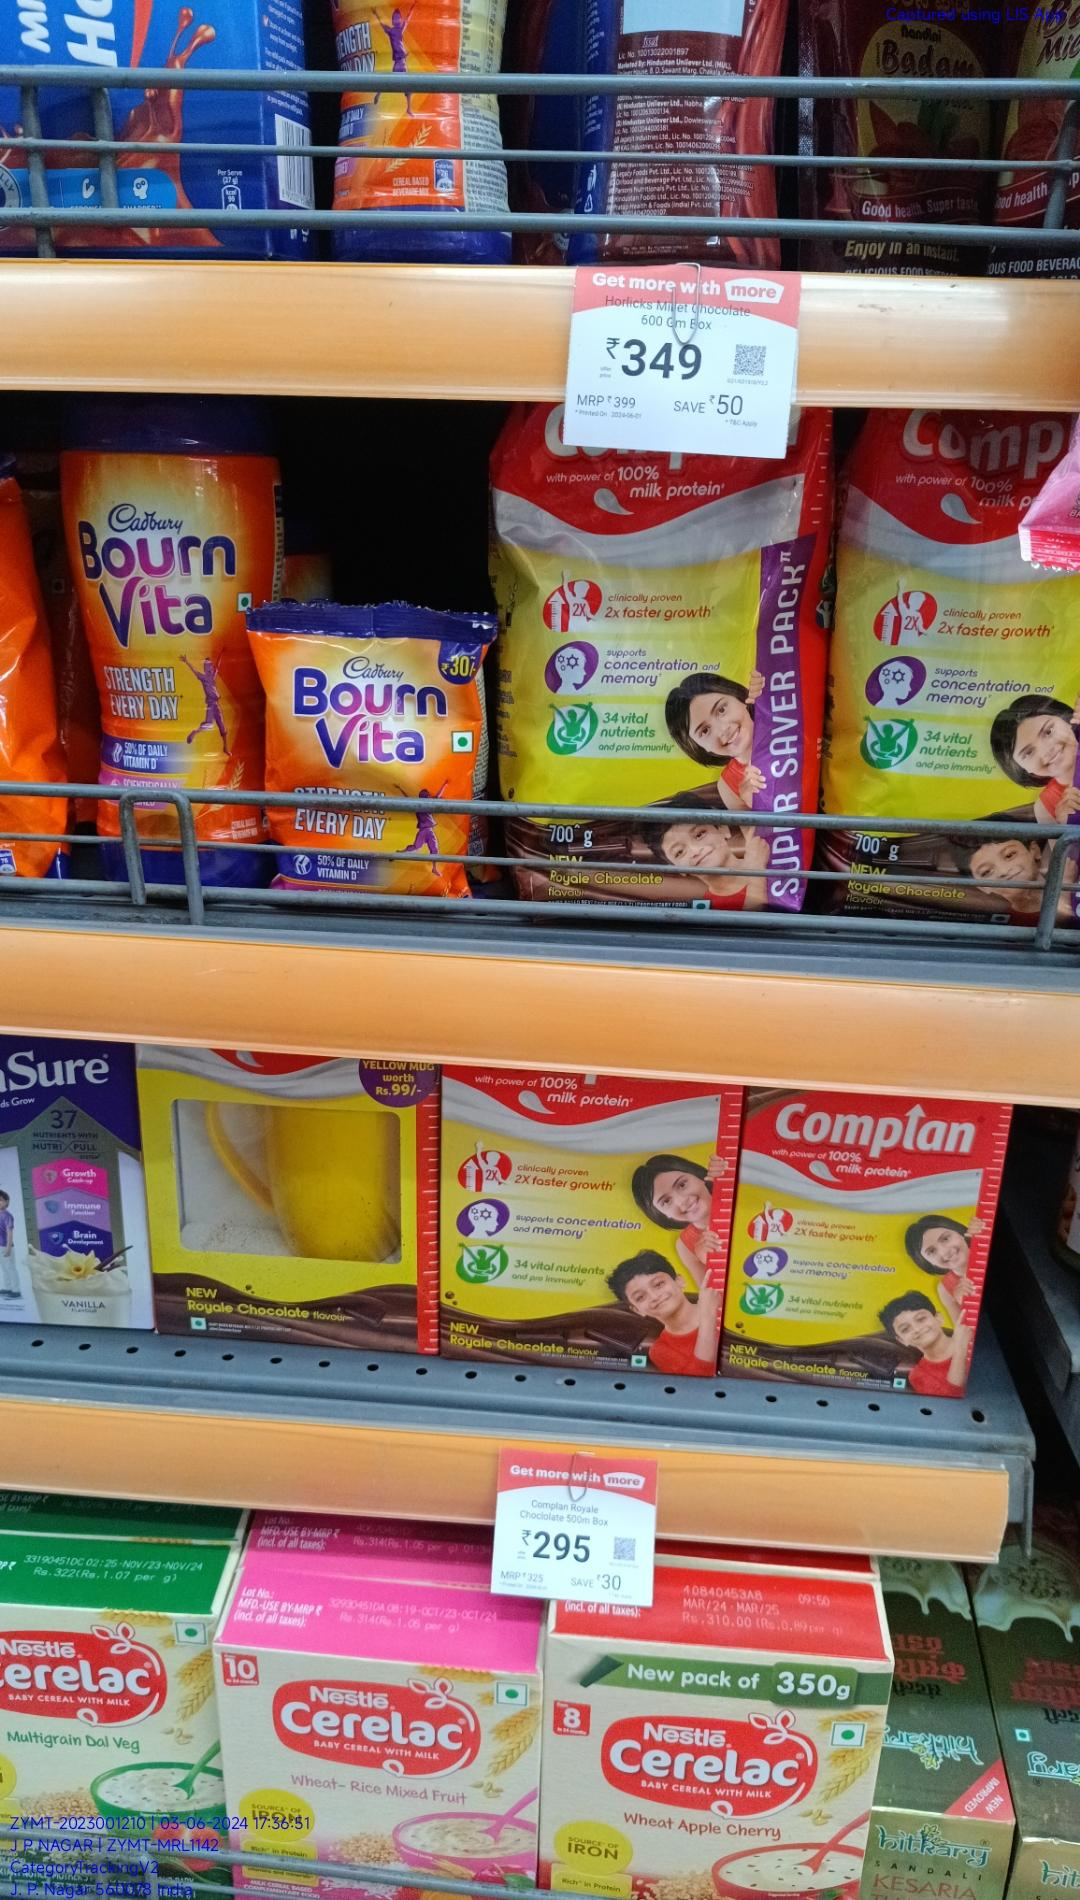BOURN_VITA_500_G_JAR: (67, 418, 252, 894)
BOURN_VITA_75_G_POUCH: (258, 619, 473, 900)
COMPLAN_CHOCOLATE_500_GMS_PACK: (443, 1075, 719, 1381), (740, 1099, 987, 1402)
COMPLAN_RC_POUCH_700_GMS_12: (502, 446, 822, 911), (830, 415, 1080, 943)
